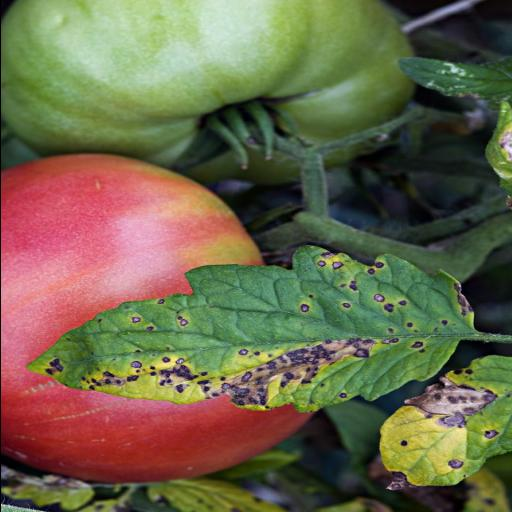disease_tomato: (32, 242, 480, 418), (373, 356, 512, 494)
